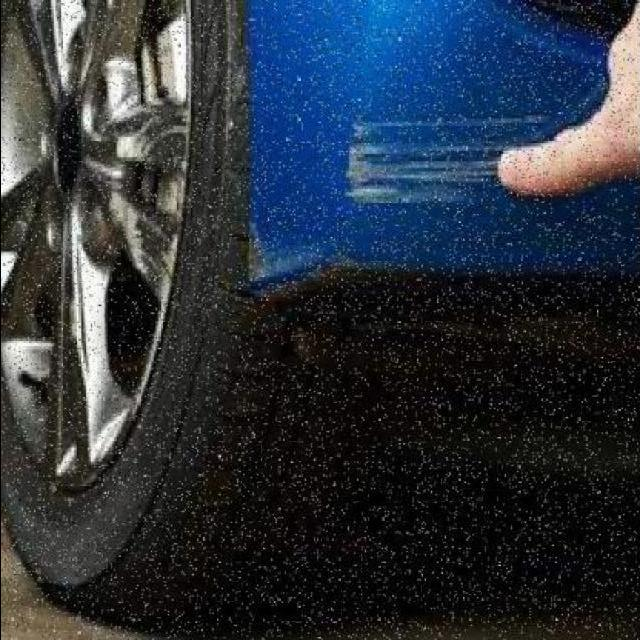front-bumper-dent: (164, 0, 638, 340)
